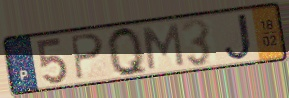3: (180, 16, 214, 68)
5: (34, 35, 70, 86)
J: (222, 11, 254, 63)
M: (141, 22, 187, 72)
P: (68, 32, 106, 82)
Q: (106, 25, 151, 79)
